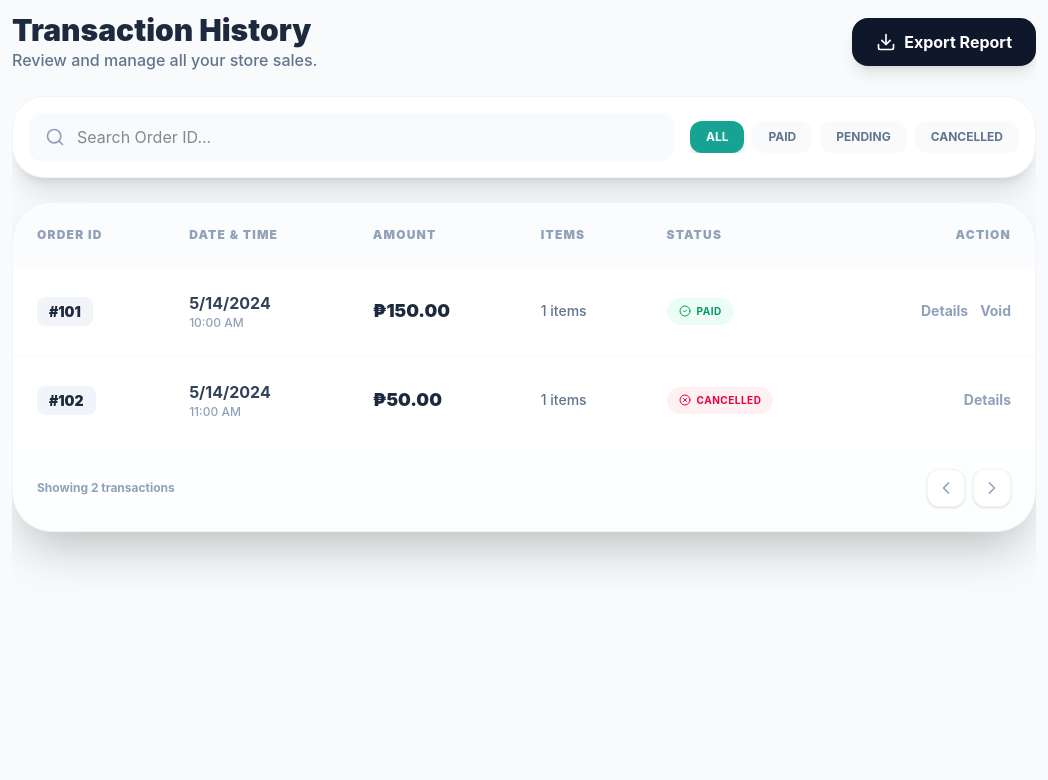
Test: Transactions Component › filters by search term (Order ID)
The width and height of the screenshot is (1048, 780).
Expected: the text "#101" is shown, [37,297,93,326]
Type "102" into the field with placeholder "Search Order ID..." at (351, 137), box [29,113,674,161]
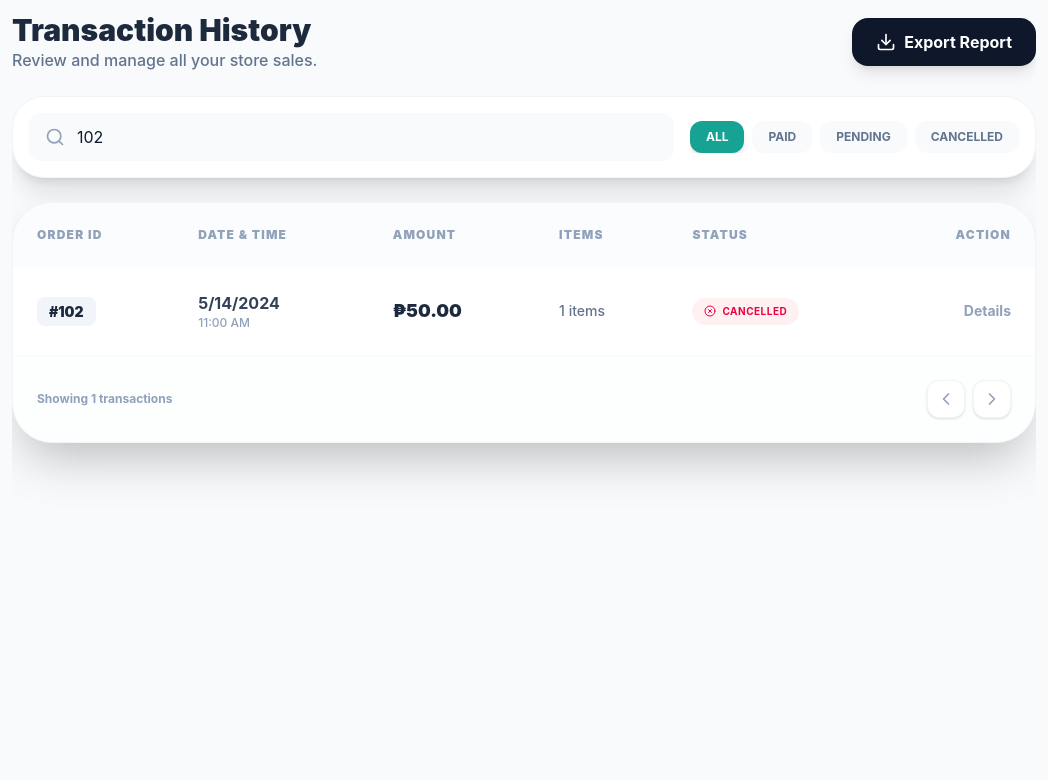
Expected: the text "#102" is shown, [37,297,96,326]
Now the text "#101" is gone
